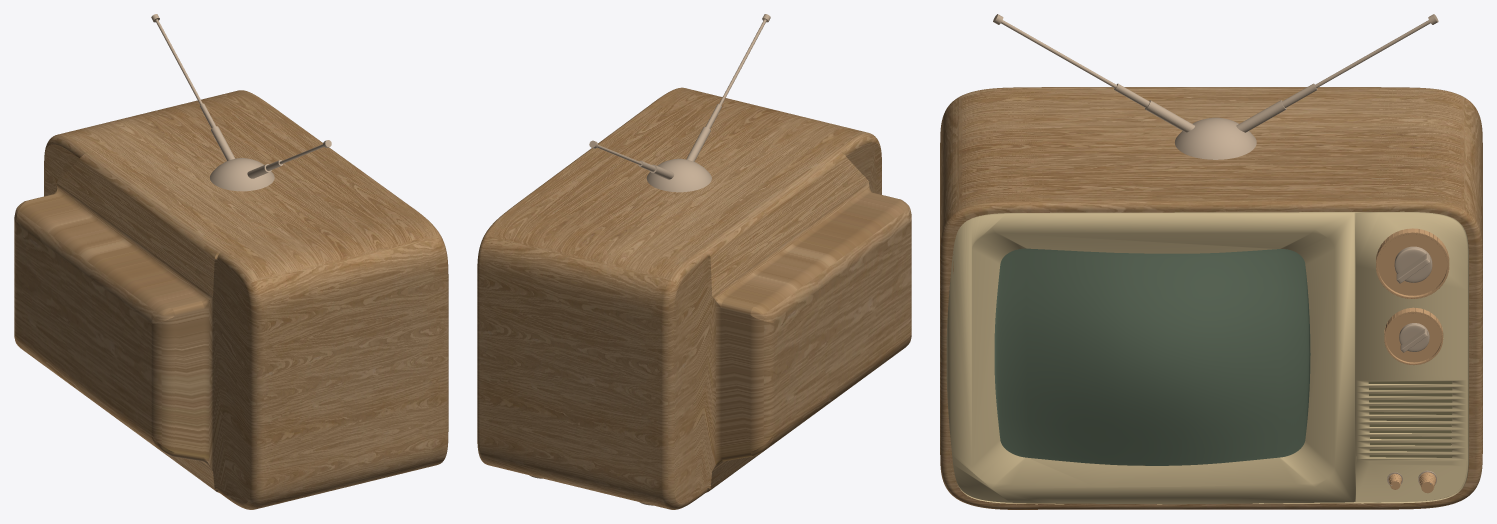
Rendered from tv-portfolio.glb.
3 views of the same model, side by side, from view 1: azimuth 30°, elevation 25°; view 2: azimuth 150°, elevation 25°; view 3: azimuth 270°, elevation 25° (orthographic). The views are drawn at different scales.
Parts seen in each view (by area): view 1: Cube.006, Cube.001, Cylinder.008; view 2: Cube.006, Cube.001, Cylinder.008; view 3: Cube, Cube.006, ecran, Cylinder, Cube.001, Cube.003, Cylinder.008.
Boxes of the visible parts, x1,y1,x2,y2 form: Cube.006: [14, 90, 448, 509]; Cube.001: [210, 158, 274, 191]; Cylinder.008: [151, 14, 331, 178]; Cube.006: [477, 87, 911, 509]; Cube.001: [529, 158, 711, 505]; Cylinder.008: [589, 14, 770, 179]; Cube: [946, 211, 1468, 504]; Cube.006: [940, 87, 1482, 509]; ecran: [994, 248, 1310, 465]; Cylinder: [1376, 228, 1449, 493]; Cube.001: [1175, 117, 1436, 484]; Cube.003: [1368, 381, 1452, 457]; Cylinder.008: [993, 14, 1438, 132].
Size of the model in its own units: 4.09 by 4.96 by 5.5.
Materials: 6 (1 with a texture image).
